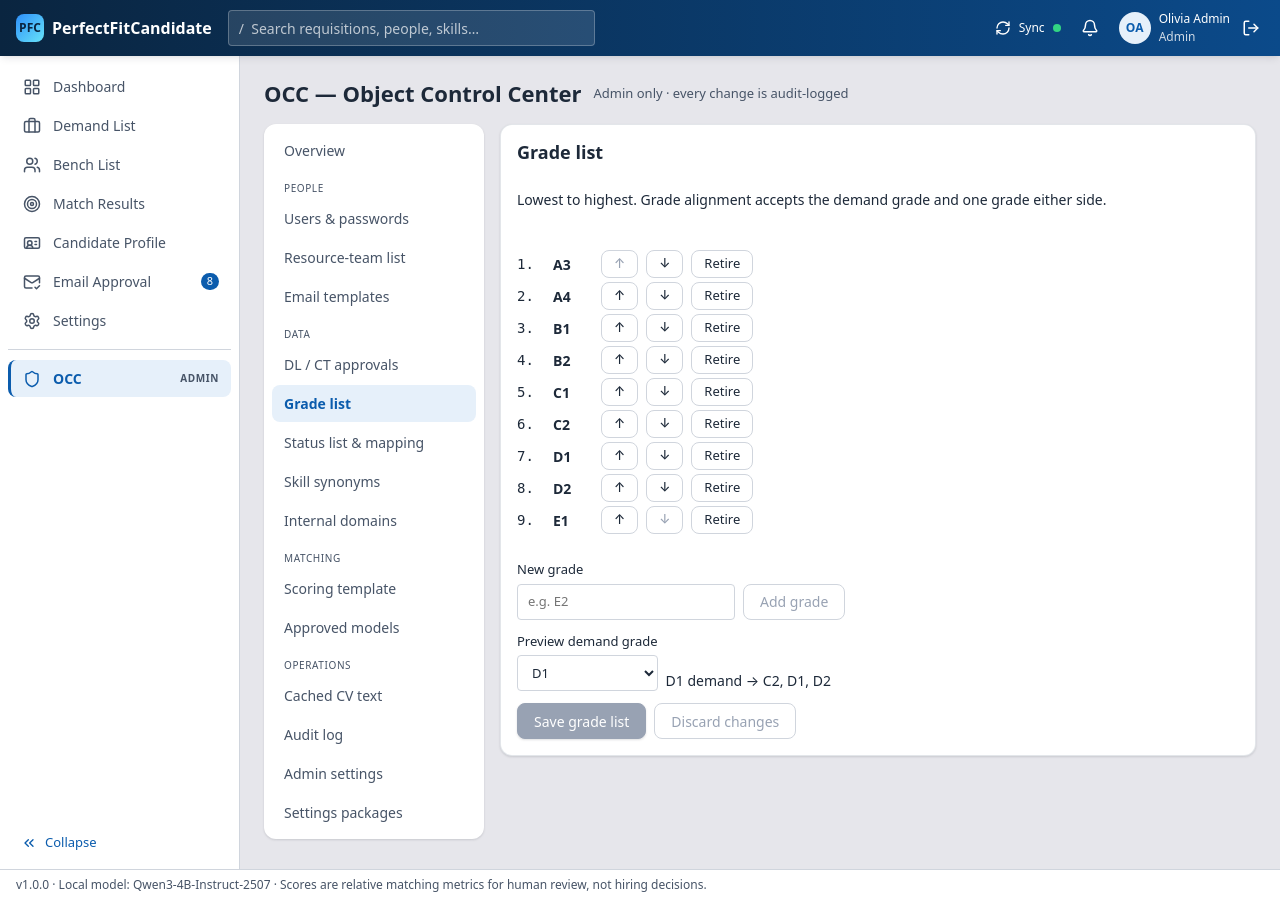
Test: OCC screens › previews the ±1 window and reorders grades
This screenshot has width=1280, height=900.
Later steps or results of the test are not shown.
Expected: the text with test id "grade-window" reads "D1 demand → C2, D1, D2", [666,670,831,691]
Click the button with aria-label "Retire D2".
click(722, 488)  # box [691,474,753,502]
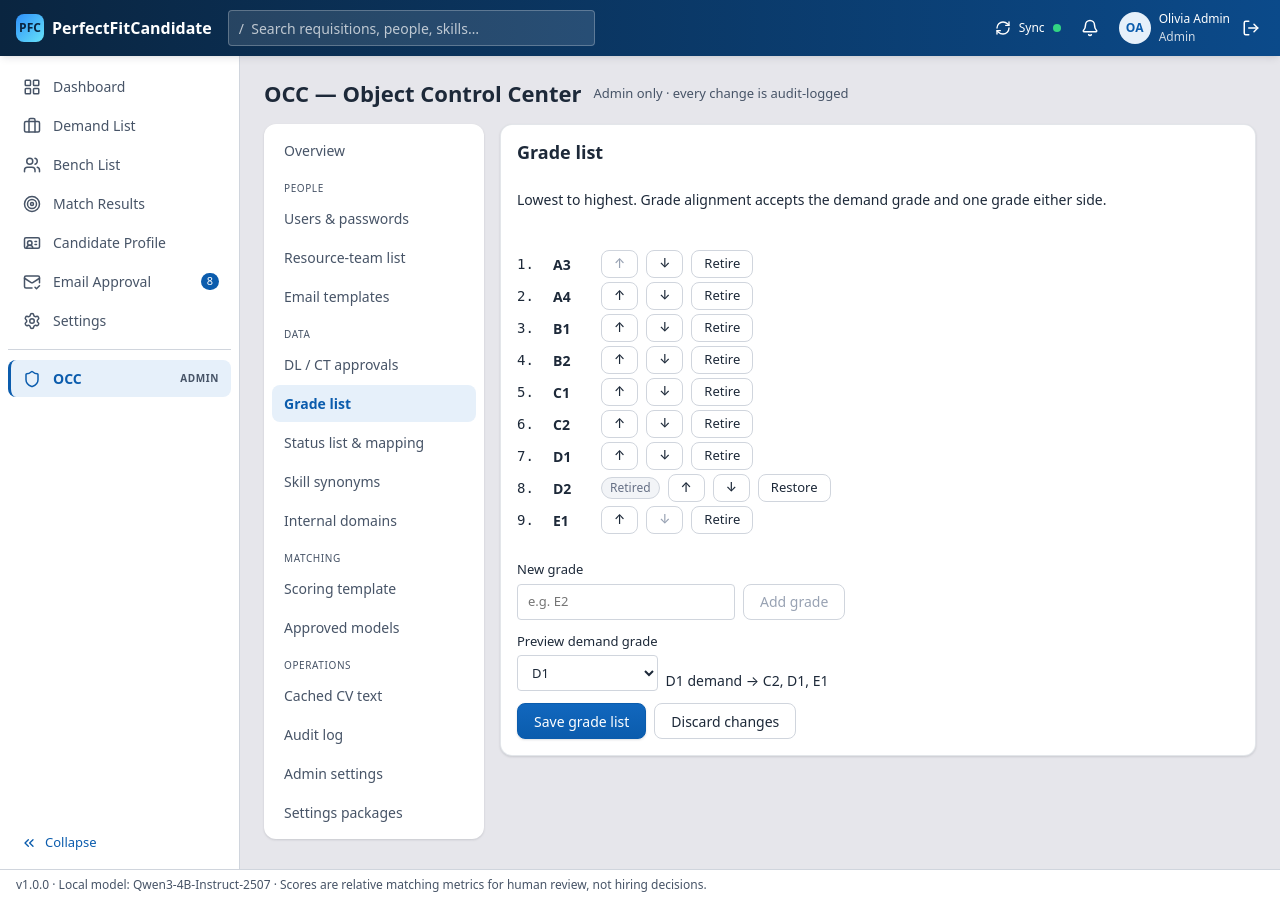
Now the text with test id "grade-window" reads "D1 demand → C2, D1, E1", box [666,670,828,691]
